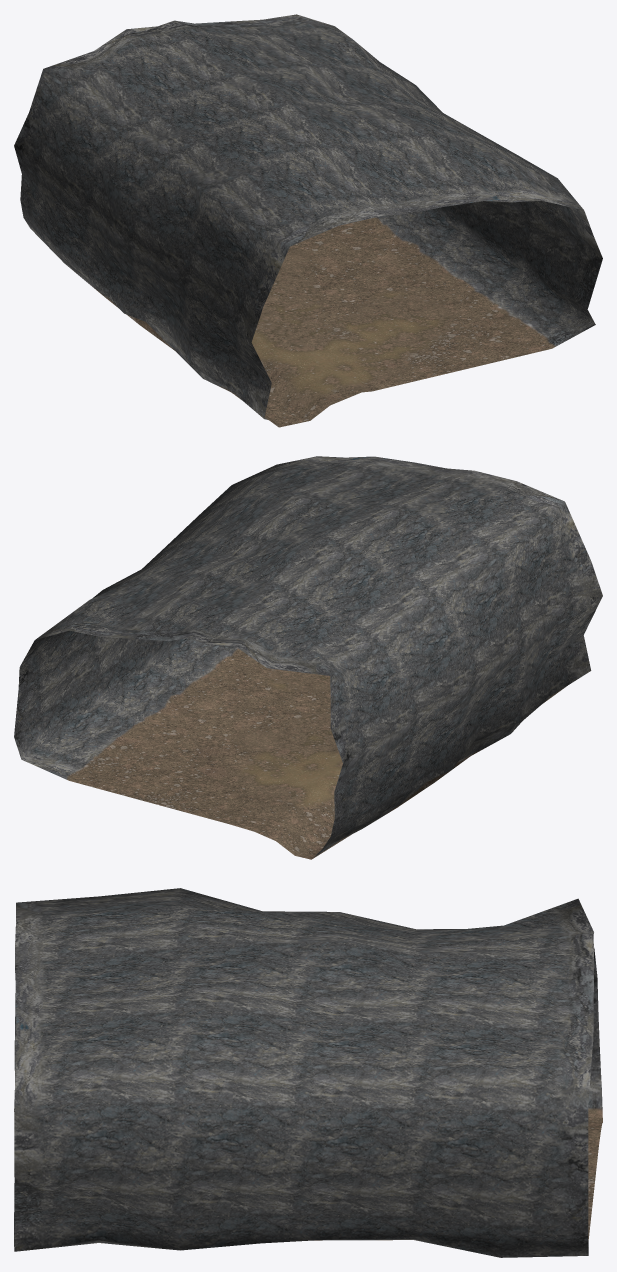
The model's file is piece.obj.
3 views of the same model, one above another, from view 1: azimuth 30°, elevation 25°; view 2: azimuth 150°, elevation 25°; view 3: azimuth 270°, elevation 25° (orthographic). The views are drawn at different scales.
Parts seen in each view (by area): view 1: TunnelA5; view 2: TunnelA5; view 3: TunnelA5.
Part boxes in pixels (box(x1,y1,x2,y2)): TunnelA5: box(14, 14, 602, 427); TunnelA5: box(14, 456, 602, 859); TunnelA5: box(14, 888, 602, 1257).
Bounding box in the file's own units: 4.33 × 2.43 × 5.42.
Materials: 1 (1 with a texture image).
